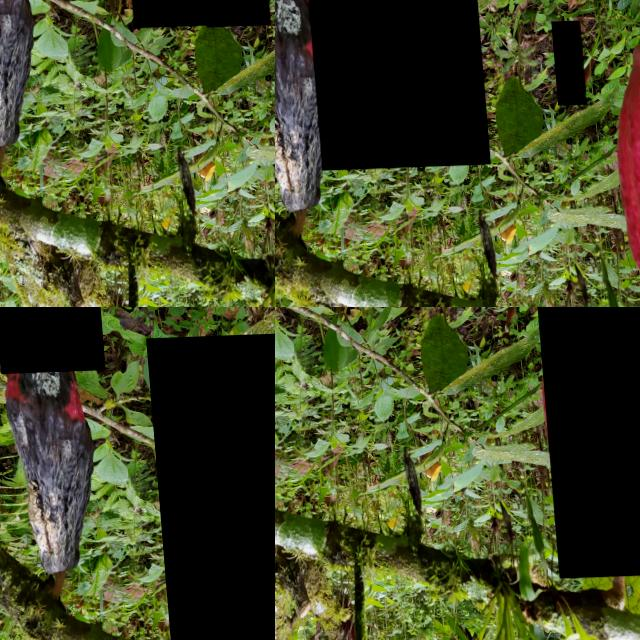Sana: (143, 336, 275, 640), (296, 0, 484, 171), (531, 307, 640, 582), (0, 307, 102, 374), (548, 24, 582, 109), (73, 536, 91, 581), (23, 636, 31, 640)
